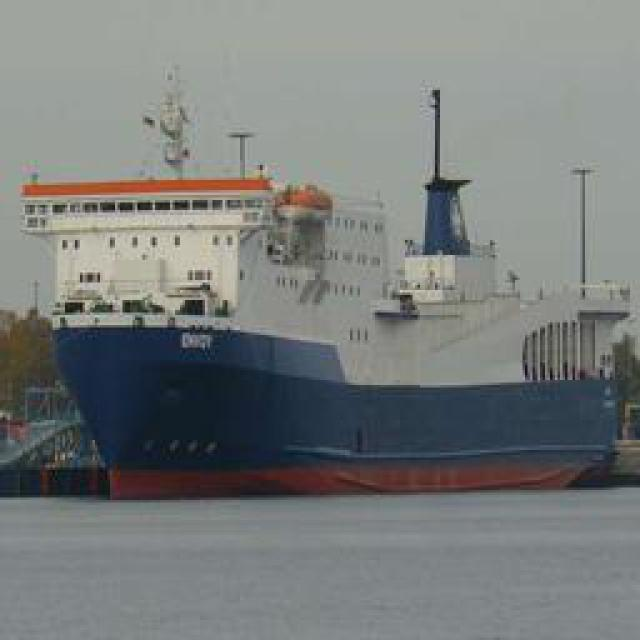Ship: (40, 87, 603, 480)
